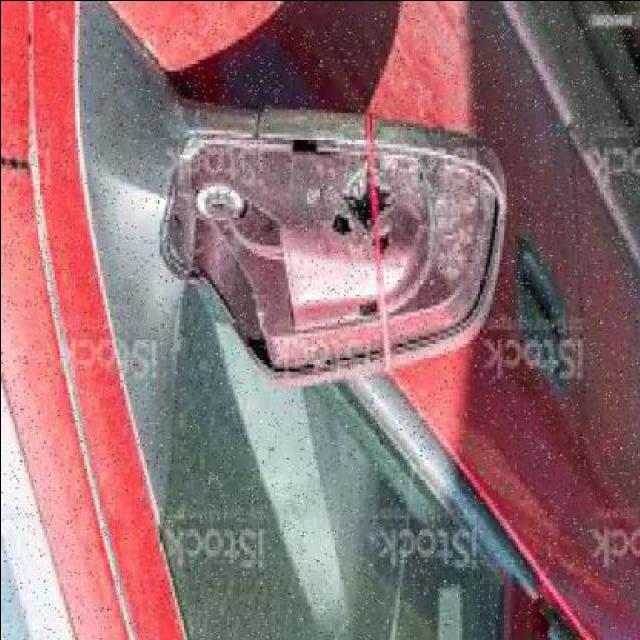Sidemirror-Damage: (132, 77, 515, 406)
